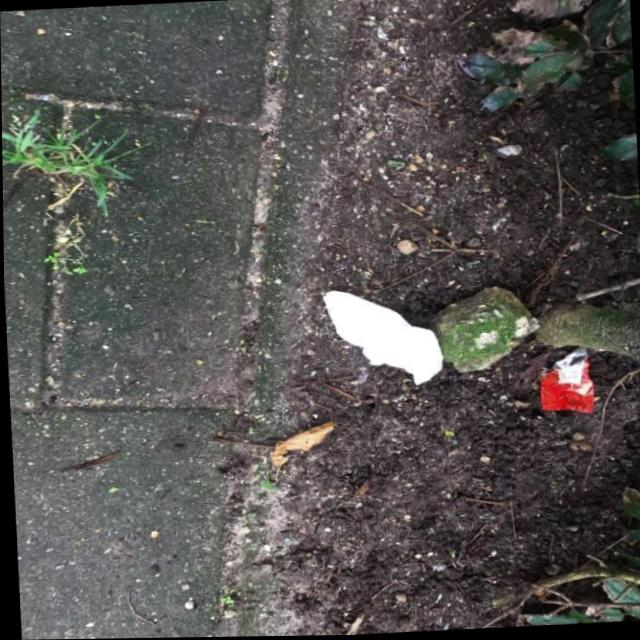Paper: (320, 285, 442, 391)
Plastic: (536, 346, 604, 418)
